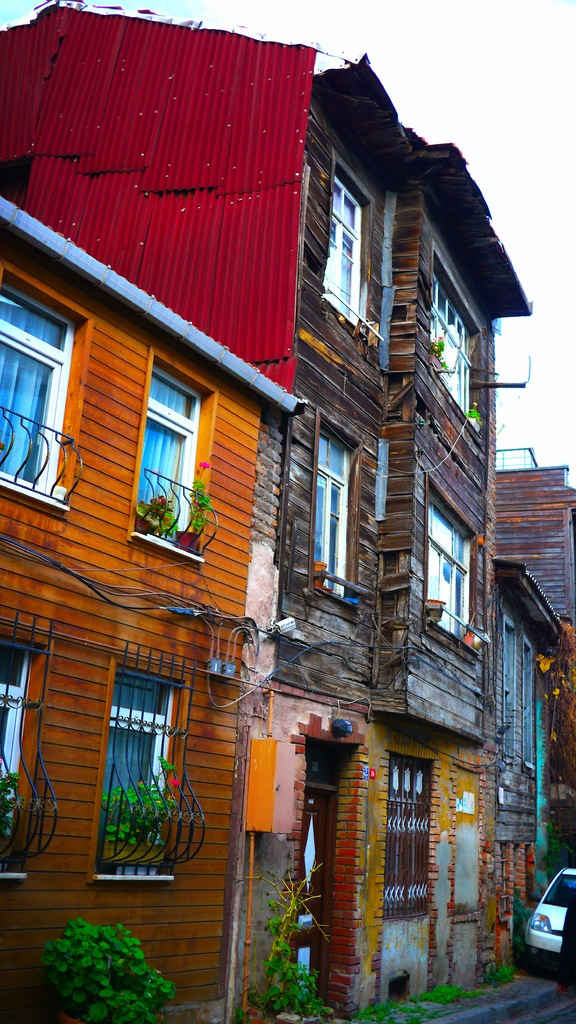Car: (525, 870, 575, 968)
